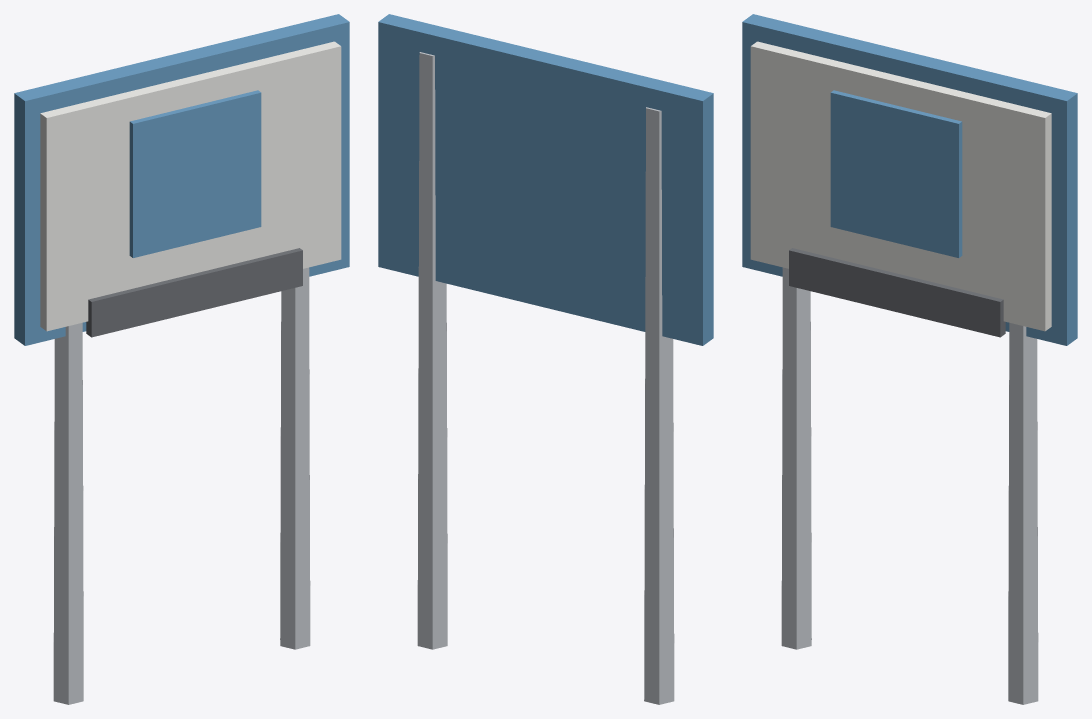
File: tennis-club-and-courts-court-number-sign-de764f75__33615.glb
The picture shows the model from 3 angles, left to right: view 1: azimuth 30°, elevation 25°; view 2: azimuth 150°, elevation 25°; view 3: azimuth 330°, elevation 25°; orthographic projection.
Parts seen in each view (by area): view 1: court-number-sign; view 2: court-number-sign; view 3: court-number-sign.
Boxes of the visible parts, x1,y1,x2,y2 form: court-number-sign: (14, 14, 349, 704); court-number-sign: (378, 14, 713, 704); court-number-sign: (742, 14, 1077, 704).
Size of the model in its own units: 0.86 by 1.55 by 0.1046.
